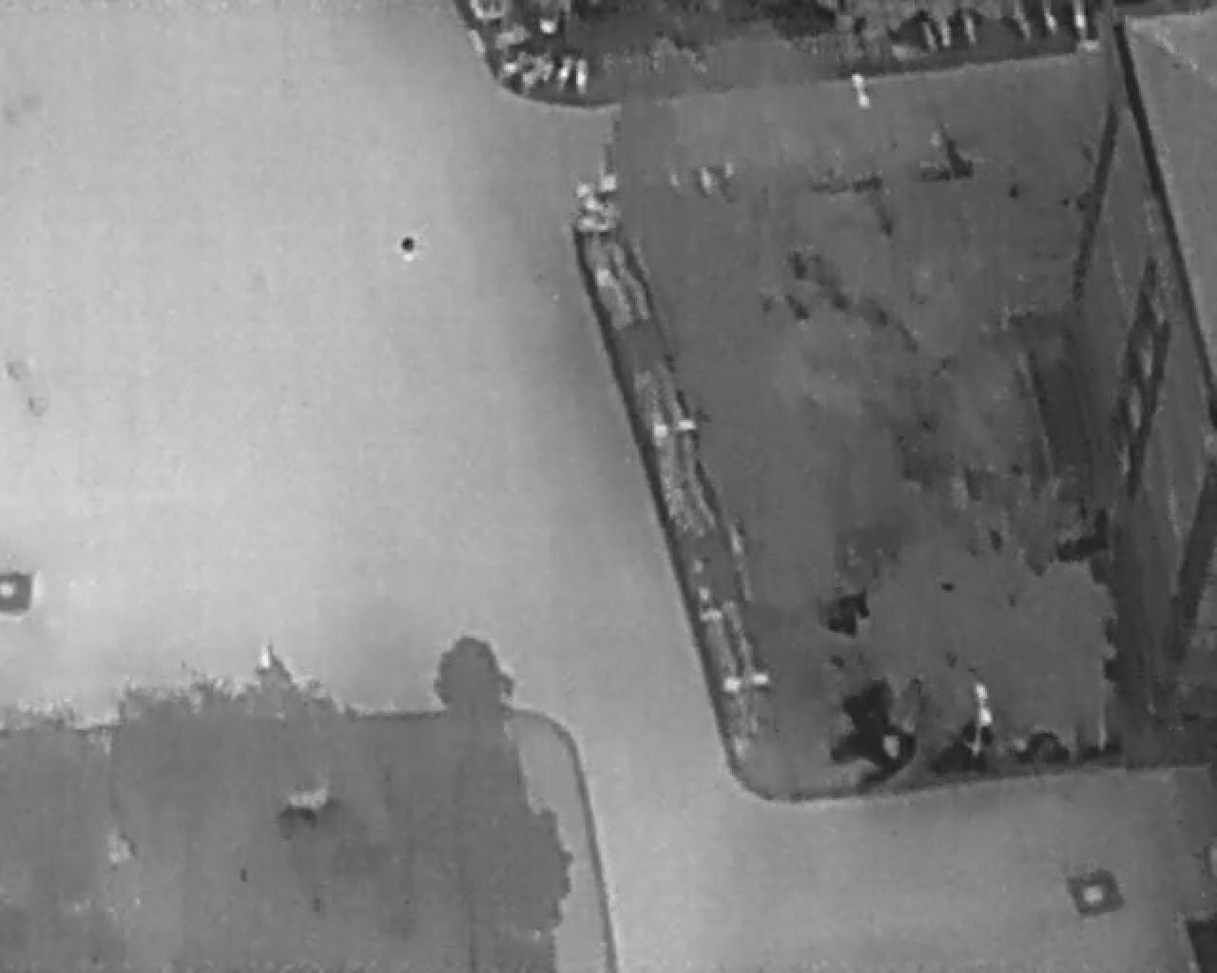person: (402, 235, 419, 261)
